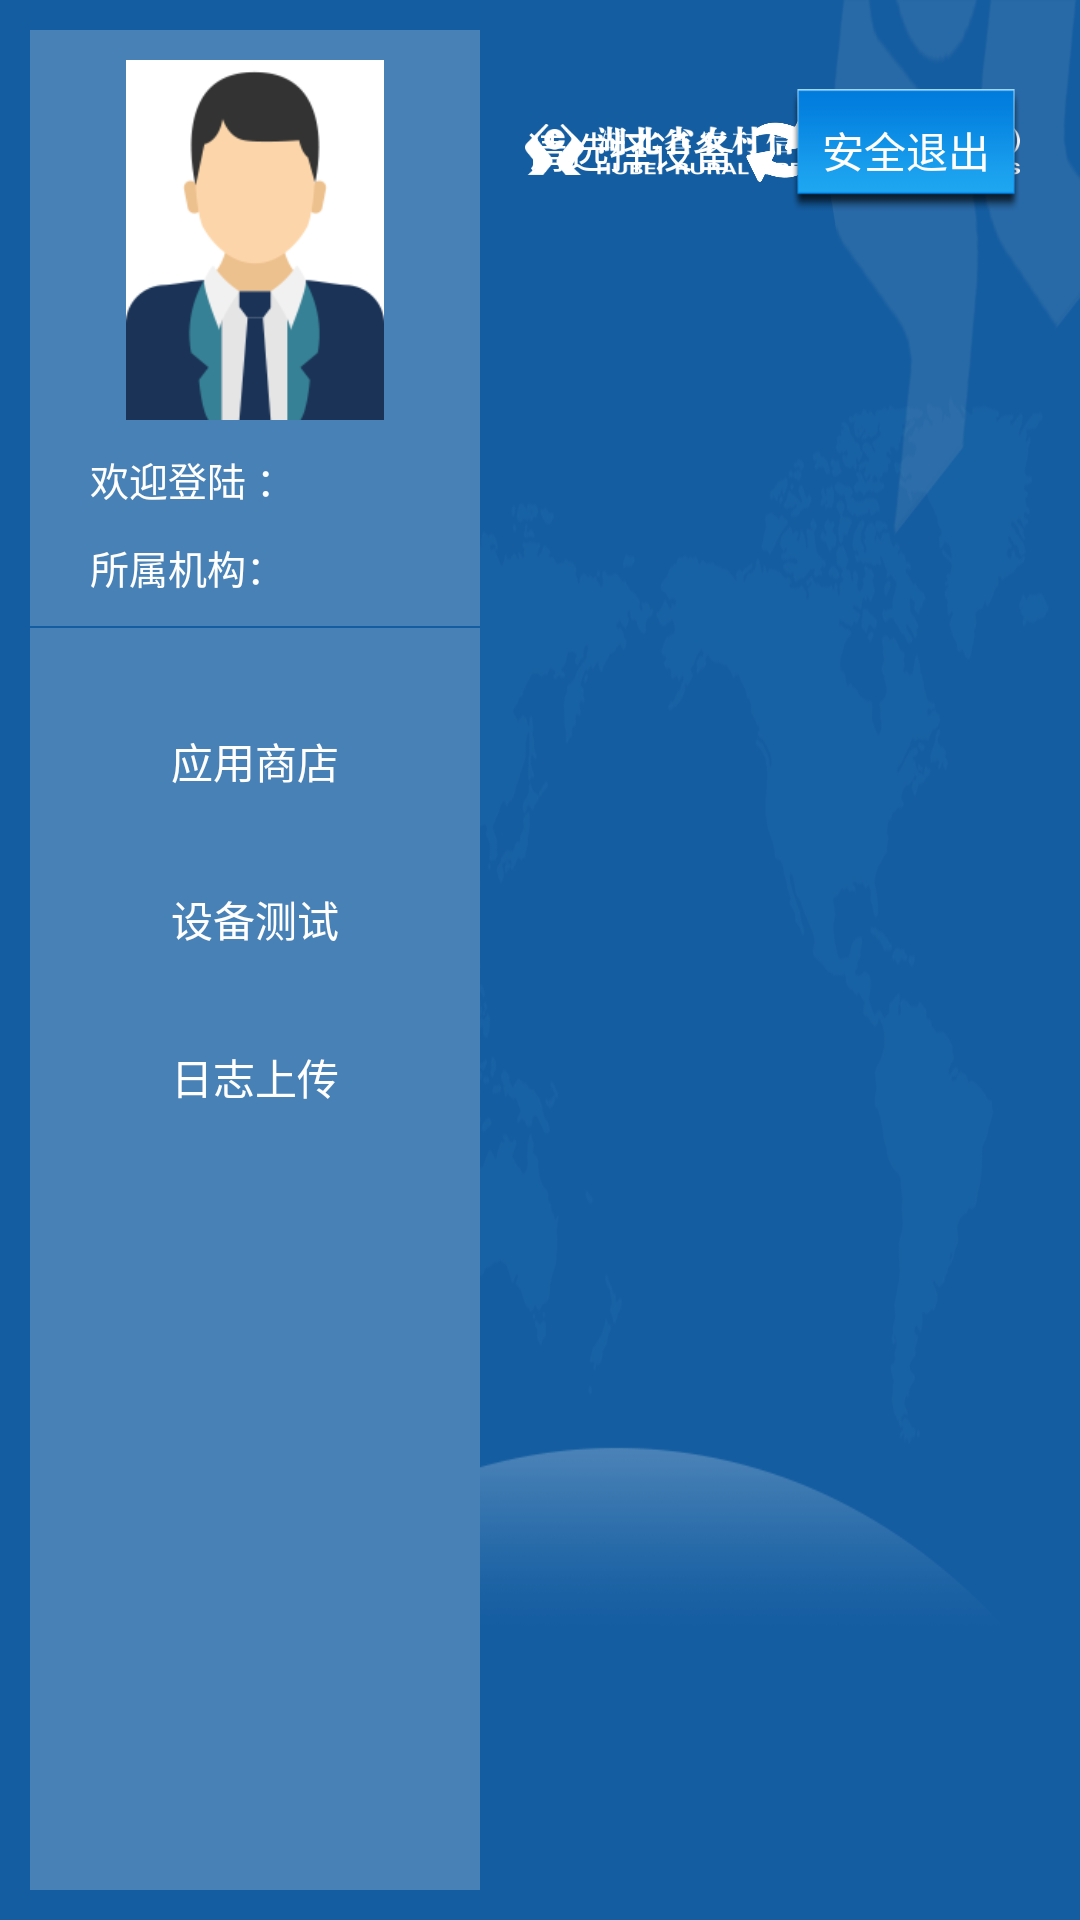

Where to tap for icons on this 1080w x 1920h app screen, as [x,y]:
cust: [255,240]
